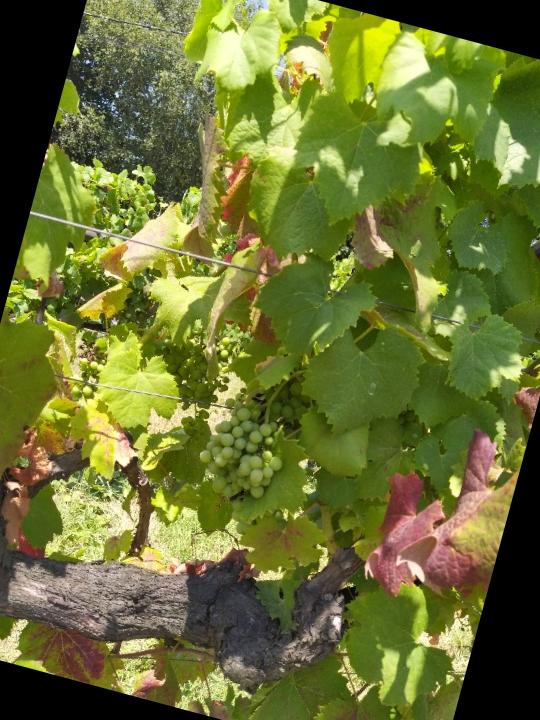grape: (188, 349, 322, 518), (134, 330, 239, 449)
